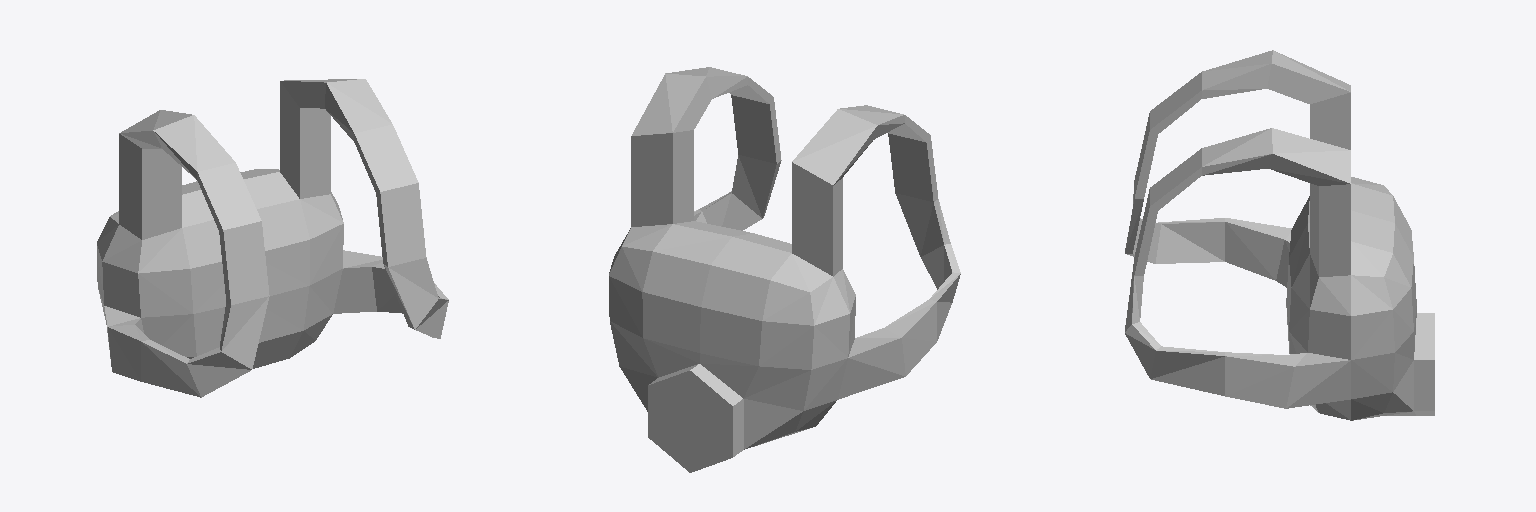
The model's file is WaterPack_Small.obj.
The picture shows the model from 3 angles: view 1: azimuth 30°, elevation 25°; view 2: azimuth 150°, elevation 25°; view 3: azimuth 270°, elevation 25°; orthographic projection.
Parts seen in each view (by area): view 1: Cube.019; view 2: Cube.019; view 3: Cube.019.
Part boxes in pixels (x1,y1,x2,y2): Cube.019: (97, 79, 448, 397); Cube.019: (609, 67, 960, 472); Cube.019: (1125, 50, 1434, 420).
Bounding box in the file's own units: 1.75 × 1.89 × 1.66.